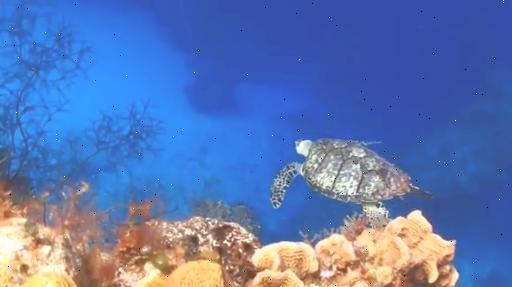Fish: (271, 139, 432, 225)
